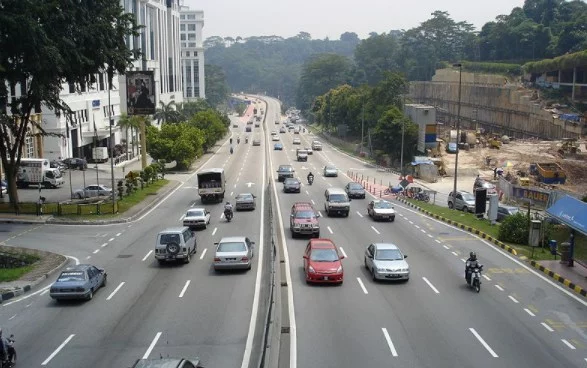mobil: (48, 256, 109, 308), (298, 232, 352, 290), (360, 235, 418, 288), (152, 221, 201, 271), (211, 231, 257, 276), (285, 199, 324, 239), (317, 184, 353, 222), (367, 197, 400, 222)
sepeda: (456, 247, 495, 302), (218, 199, 238, 225), (305, 167, 317, 187)
